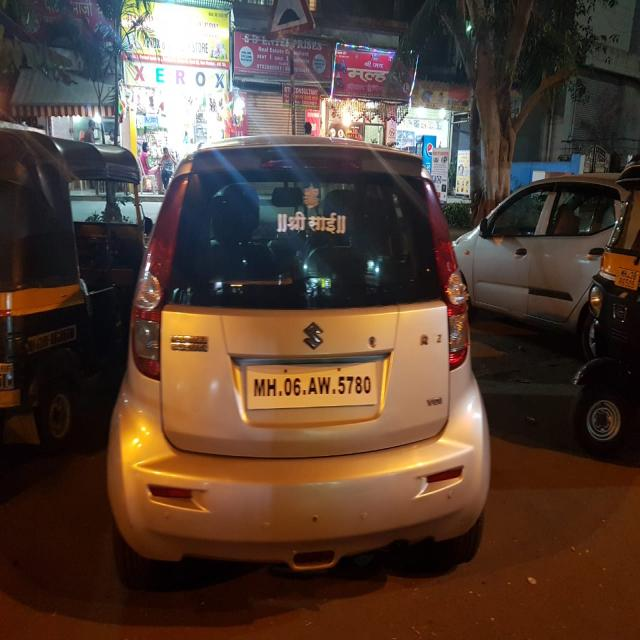Number-Plate: (249, 364, 379, 407)
